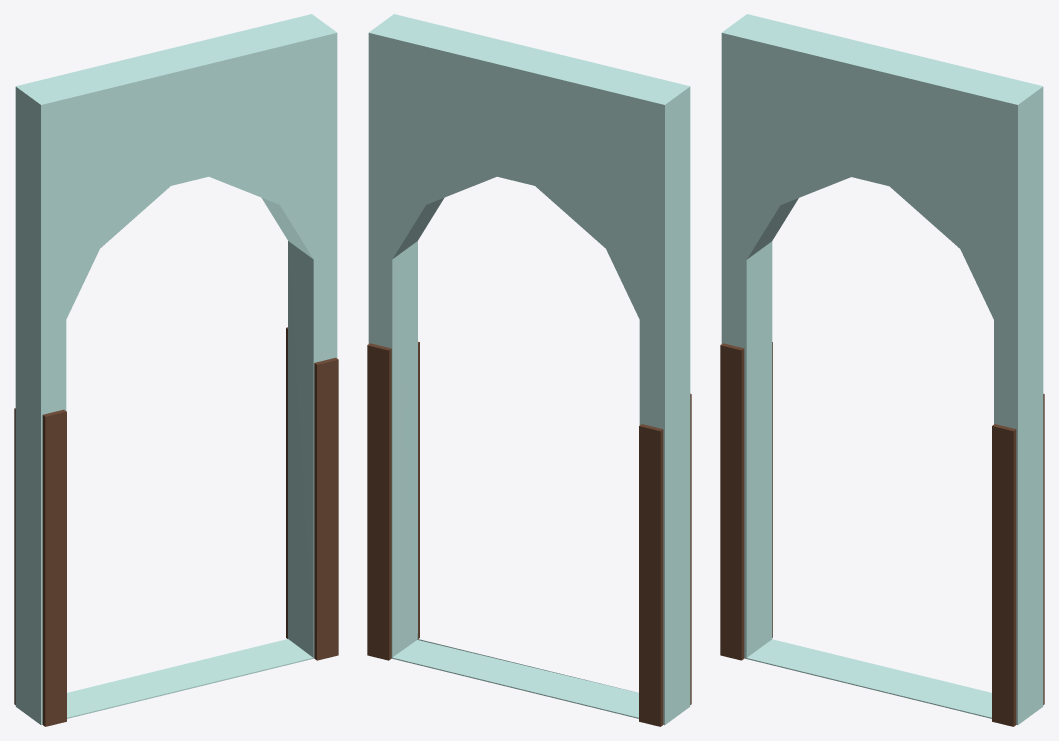
Rendered from BeachDoorframe.glb.
3 views of the same model, side by side, from view 1: azimuth 30°, elevation 25°; view 2: azimuth 150°, elevation 25°; view 3: azimuth 330°, elevation 25° (orthographic).
Visible parts, largest first — view 1: wall_beach_door; view 2: wall_beach_door; view 3: wall_beach_door.
Boxes of the visible parts, x1,y1,x2,y2 form: wall_beach_door: (14,14,338,726); wall_beach_door: (367,14,691,726); wall_beach_door: (720,14,1044,726).
Size of what is drawn, in the model's own units: 2 by 4 by 0.3647.
1 material, 1 textured.
